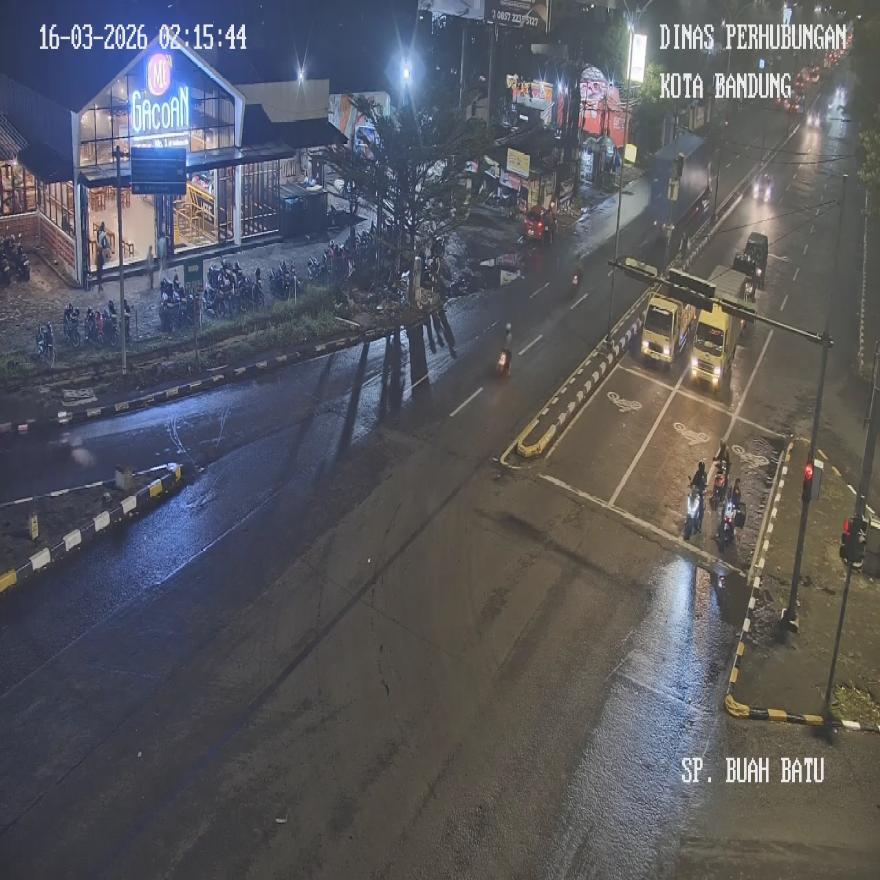Motor: (718, 499, 737, 548), (686, 480, 702, 537), (36, 322, 54, 366), (62, 309, 82, 347), (712, 462, 728, 502), (497, 345, 512, 374), (572, 259, 582, 292)
